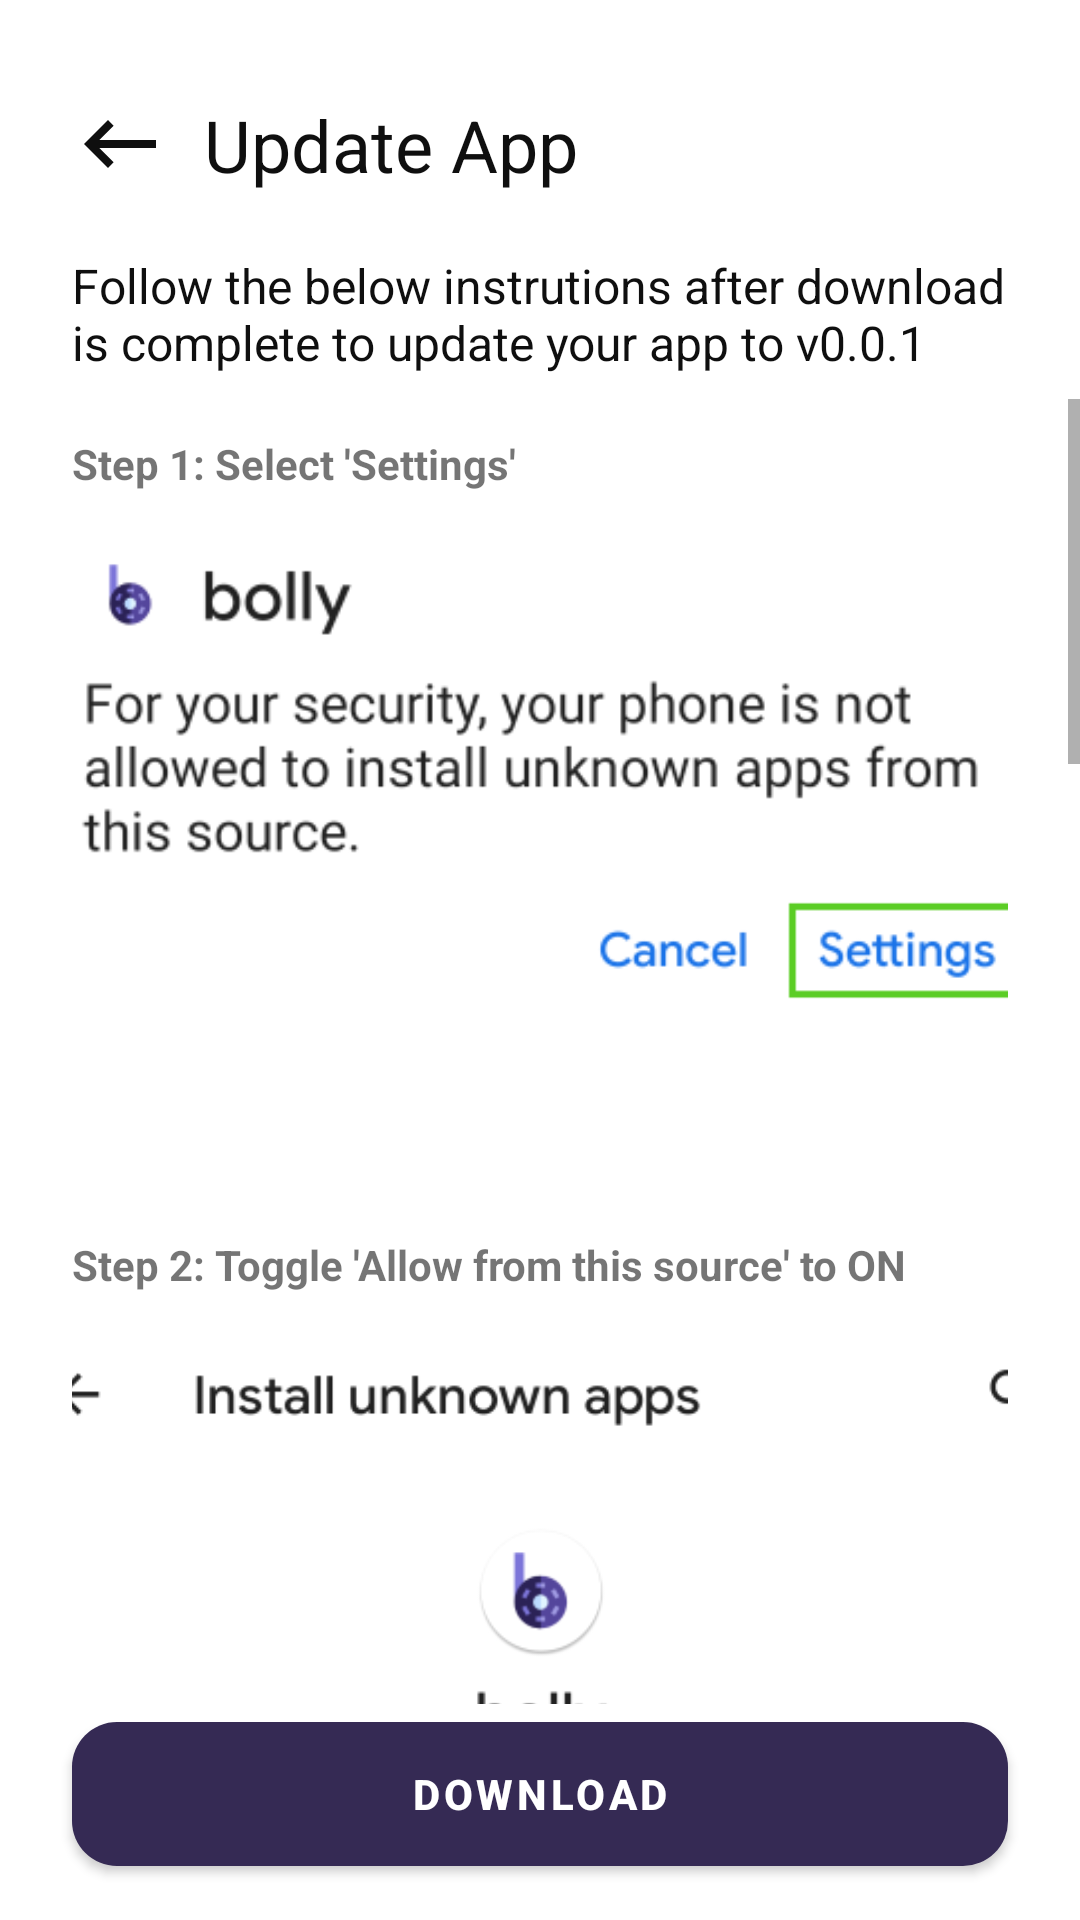

Icons on this 1080 × 1920 Android screen, each with the point to tap as [x,y]:
back: [120,144]
